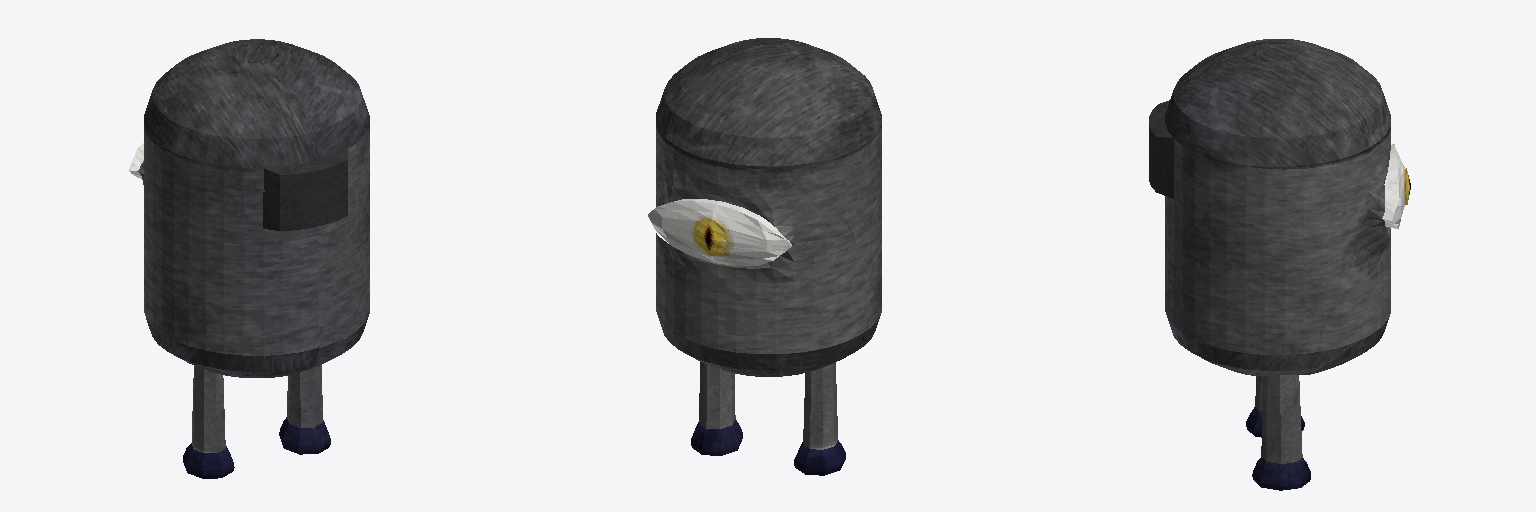
3 views of the same model, side by side, from view 1: azimuth 30°, elevation 25°; view 2: azimuth 150°, elevation 25°; view 3: azimuth 270°, elevation 25° (orthographic).
Parts seen in each view (by area): view 1: Cylinder.002_Cylinder.001; view 2: Cylinder.002_Cylinder.001; view 3: Cylinder.002_Cylinder.001.
Part boxes in pixels (x1,y1,x2,y2): Cylinder.002_Cylinder.001: (129, 39, 369, 478); Cylinder.002_Cylinder.001: (648, 38, 881, 475); Cylinder.002_Cylinder.001: (1149, 39, 1410, 490).
Size of the model in its own units: 2 by 3.94 by 2.31.
1 materials, 1 textured.